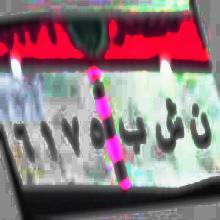1: (39, 110, 61, 174)
5: (88, 113, 107, 158)
6: (13, 114, 36, 175)
7: (63, 112, 84, 172)
baa: (116, 107, 150, 160)
noon: (189, 104, 212, 162)
sheen: (155, 93, 184, 164)
